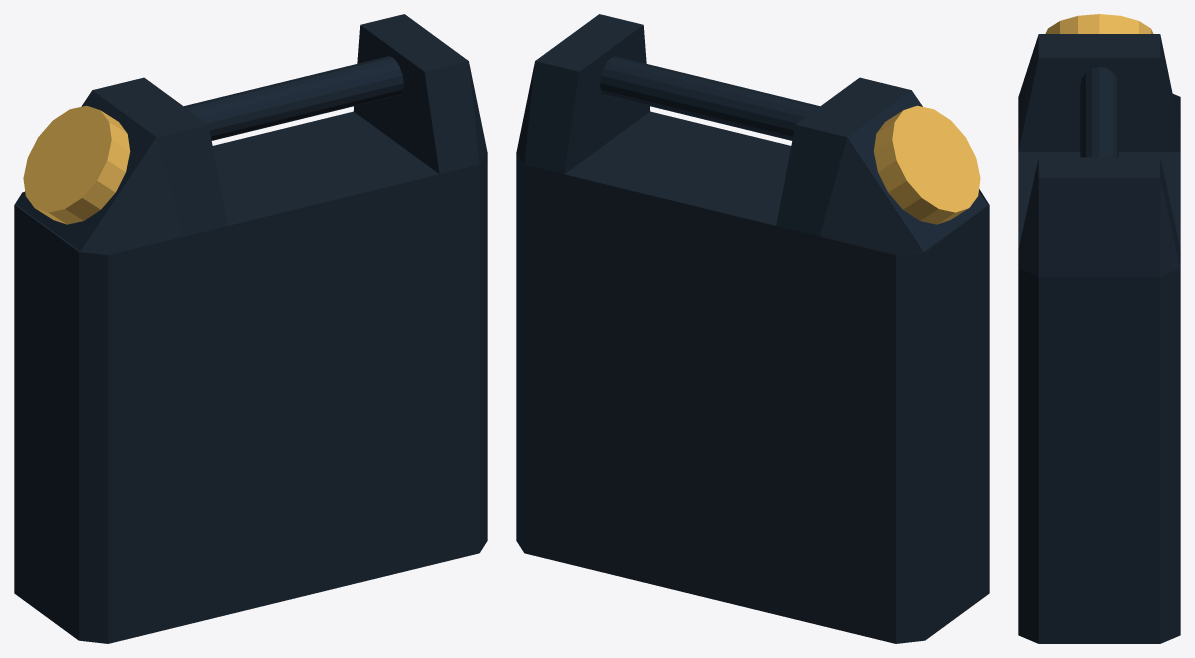
Rendered from Fuel_FullTank.fbx.
The picture shows the model from 3 angles, left to right: view 1: azimuth 30°, elevation 25°; view 2: azimuth 150°, elevation 25°; view 3: azimuth 270°, elevation 25°; orthographic projection. The views are drawn at different scales.
Parts seen in each view (by area): view 1: Plane.001, Cylinder.003, Cylinder.001; view 2: Plane.001, Cylinder.003, Cylinder.001; view 3: Plane.001, Cylinder.001, Cylinder.003.
Boxes of the visible parts, left/top/right/bottom form: Plane.001: left=14, top=14, right=487, bottom=643; Cylinder.003: left=23, top=105, right=130, bottom=224; Cylinder.001: left=184, top=56, right=403, bottom=140; Plane.001: left=516, top=14, right=989, bottom=643; Cylinder.003: left=873, top=105, right=980, bottom=224; Cylinder.001: left=600, top=56, right=819, bottom=140; Plane.001: left=1018, top=34, right=1180, bottom=643; Cylinder.001: left=1080, top=67, right=1118, bottom=157; Cylinder.003: left=1045, top=14, right=1153, bottom=33.
Size of the model in its own units: 226 by 254 by 80.
